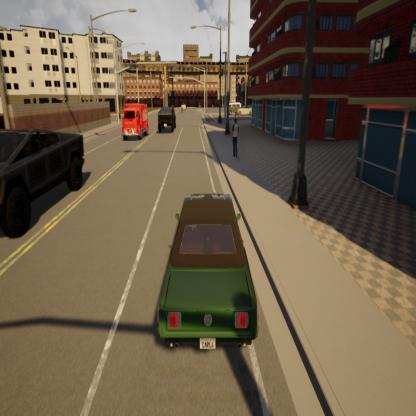Cars: (153, 187, 262, 356), (0, 122, 91, 242), (120, 100, 151, 142), (156, 106, 178, 137), (235, 104, 255, 116), (180, 101, 188, 112)
Pedestrian: (228, 113, 244, 162)
